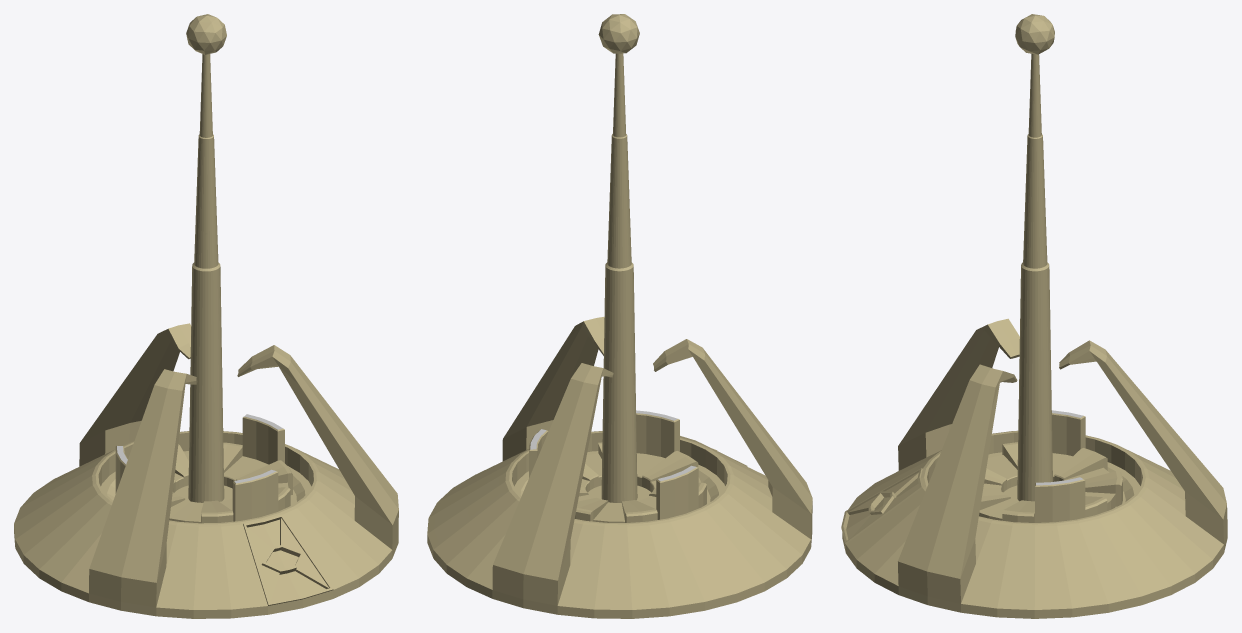
Rendered from ElectricBlock.obj.
3 views of the same model, side by side, from view 1: azimuth 30°, elevation 25°; view 2: azimuth 150°, elevation 25°; view 3: azimuth 270°, elevation 25° (orthographic).
Visible parts, largest first — view 1: Cylinder; view 2: Cylinder; view 3: Cylinder.
Part boxes in pixels (bbox=[...]): Cylinder: bbox=[14, 14, 398, 618]; Cylinder: bbox=[427, 14, 812, 618]; Cylinder: bbox=[841, 14, 1227, 618].
Bounding box in the file's own units: 1.76 × 2.63 × 1.76.
1 material, 1 textured.
